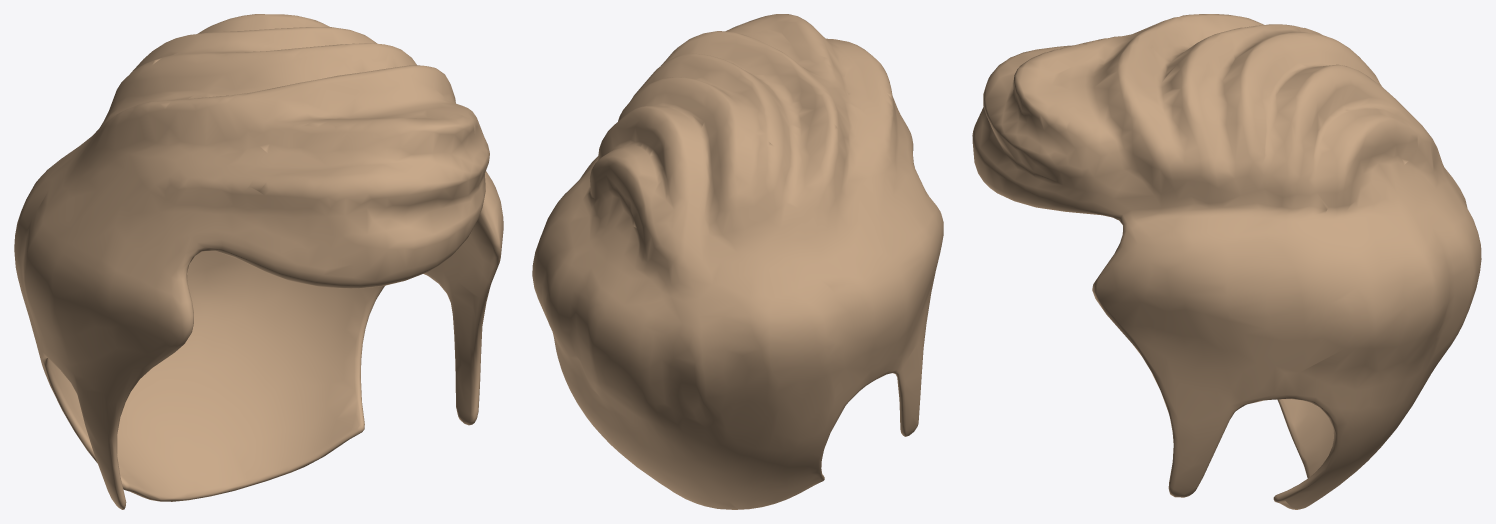
File: hair-4-007a2a07.glb
3 renders of one model, left to right at view 1: azimuth 30°, elevation 25°; view 2: azimuth 150°, elevation 25°; view 3: azimuth 270°, elevation 25°, orthographic. The views are drawn at different scales.
Parts seen in each view (by area): view 1: Geo_White_Old_Male_Hair_4.001; view 2: Geo_White_Old_Male_Hair_4.001; view 3: Geo_White_Old_Male_Hair_4.001.
Boxes of the visible parts, x1,y1,x2,y2 form: Geo_White_Old_Male_Hair_4.001: (14, 14, 503, 509); Geo_White_Old_Male_Hair_4.001: (532, 14, 943, 509); Geo_White_Old_Male_Hair_4.001: (972, 14, 1481, 509).
Bounding box in the file's own units: 1.48 × 1.67 × 1.68.
